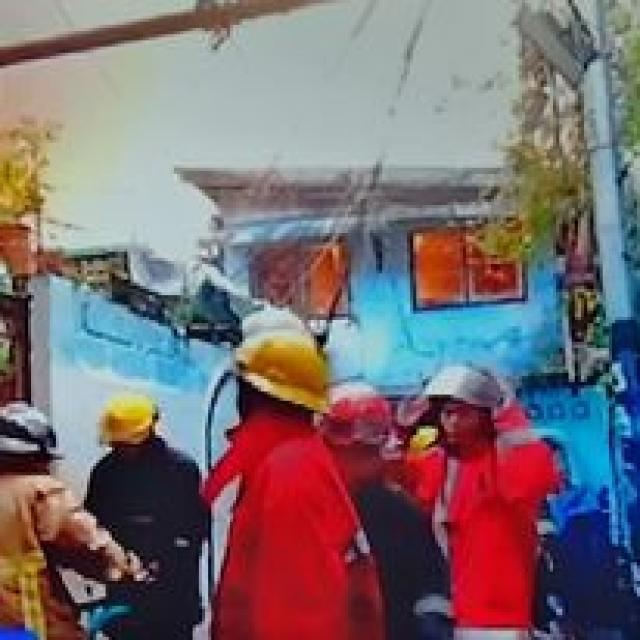Fire: (416, 231, 470, 296), (308, 242, 343, 316)
